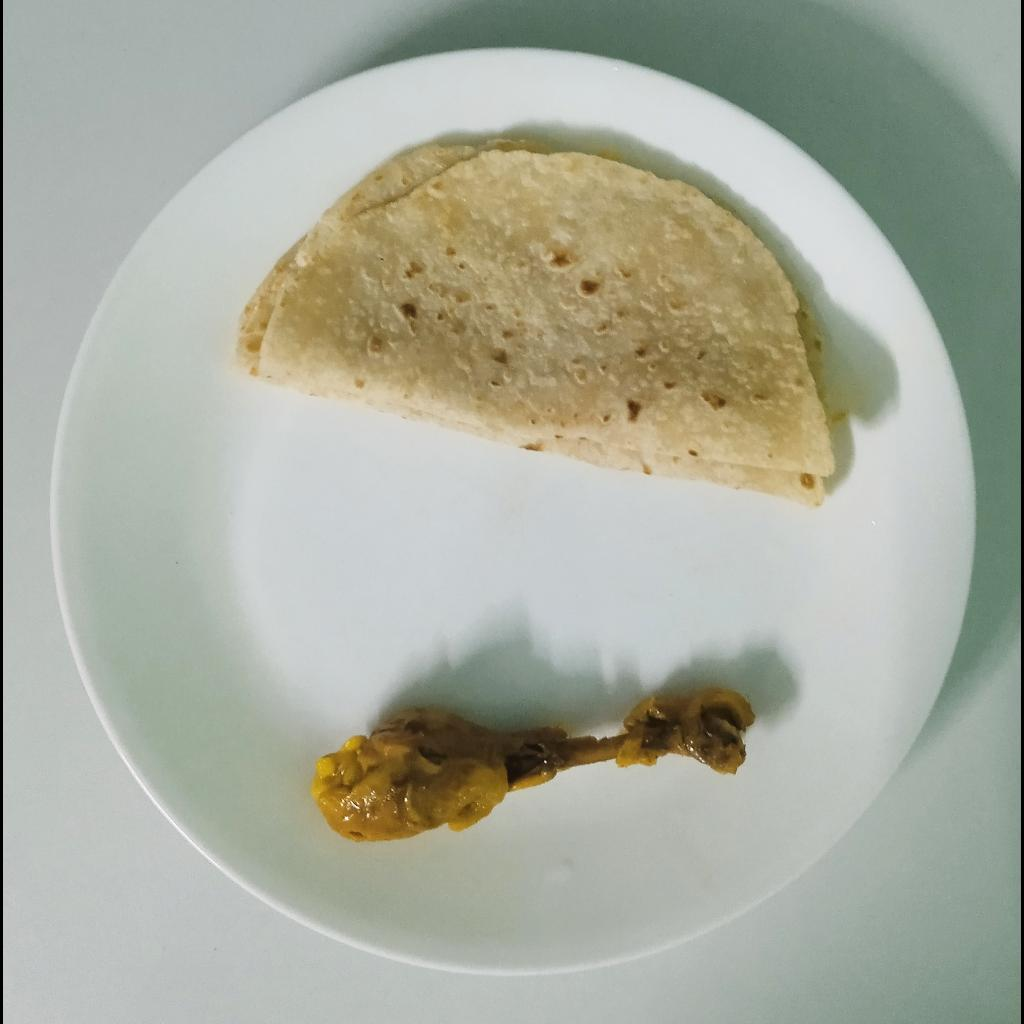chicken: (313, 686, 756, 842)
ruti: (236, 139, 834, 508)
